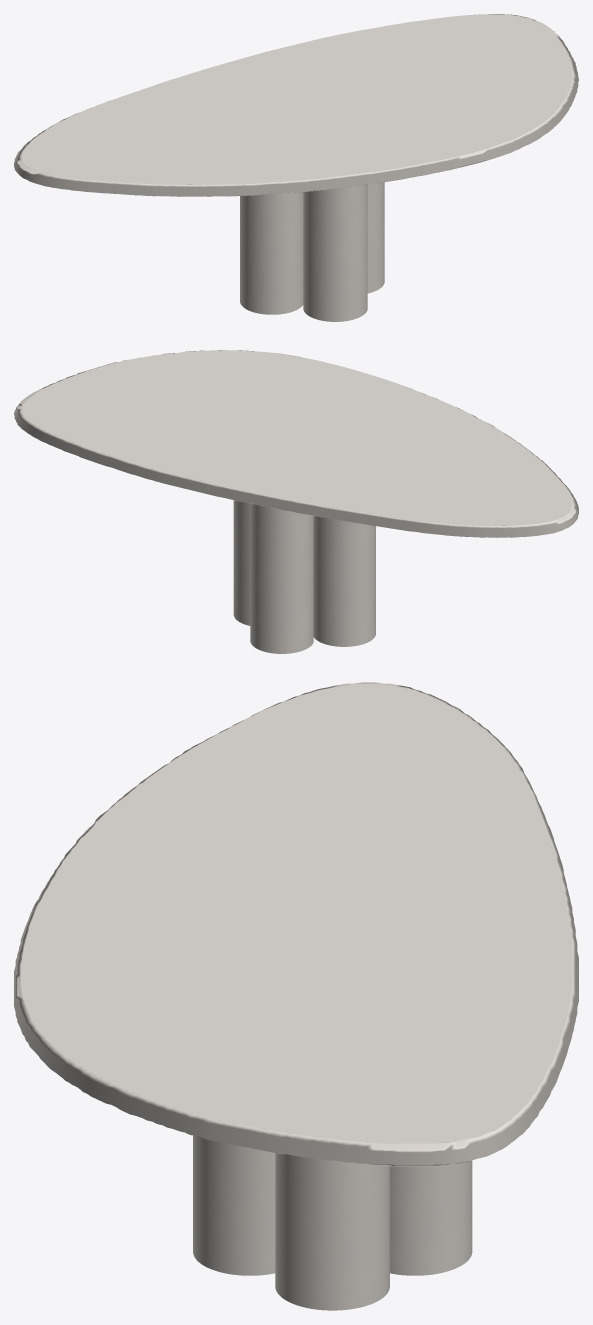
The model's file is pearlwhite_pebbletop_round_secondtable.glb.
3 renders of one model, top to bottom at view 1: azimuth 30°, elevation 25°; view 2: azimuth 150°, elevation 25°; view 3: azimuth 270°, elevation 25°, orthographic. The views are drawn at different scales.
Visible parts, largest first — view 1: round_pebbletop, secondtable; view 2: round_pebbletop, secondtable; view 3: round_pebbletop, secondtable.
Part boxes in pixels (x1=…): round_pebbletop: x1=14, y1=14, x2=578, y2=196; secondtable: x1=240, y1=182, x2=384, y2=321; round_pebbletop: x1=14, y1=350, x2=578, y2=537; secondtable: x1=233, y1=500, x2=375, y2=653; round_pebbletop: x1=14, y1=682, x2=578, y2=1166; secondtable: x1=193, y1=1135, x2=472, y2=1310.
Bounding box in the file's own units: 7.69 × 2.5 × 3.89.
Materials: 1 (1 with a texture image).
